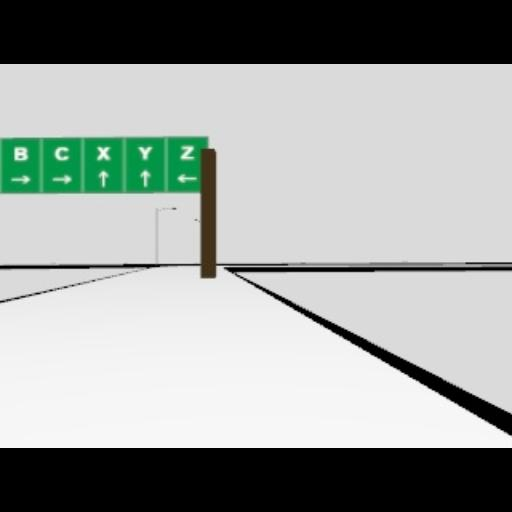B: (13, 146, 27, 160)
C: (55, 146, 69, 160)
Left: (176, 173, 196, 183)
Right: (52, 172, 72, 184), (10, 174, 32, 184)
Straight: (98, 169, 108, 187), (140, 170, 150, 186)
X: (96, 146, 110, 160)
Y: (138, 146, 152, 160)
Z: (179, 144, 195, 158)
